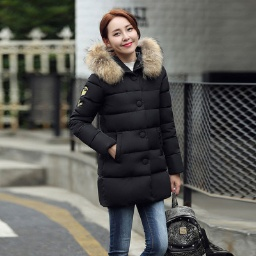face: (93, 6, 152, 67)
